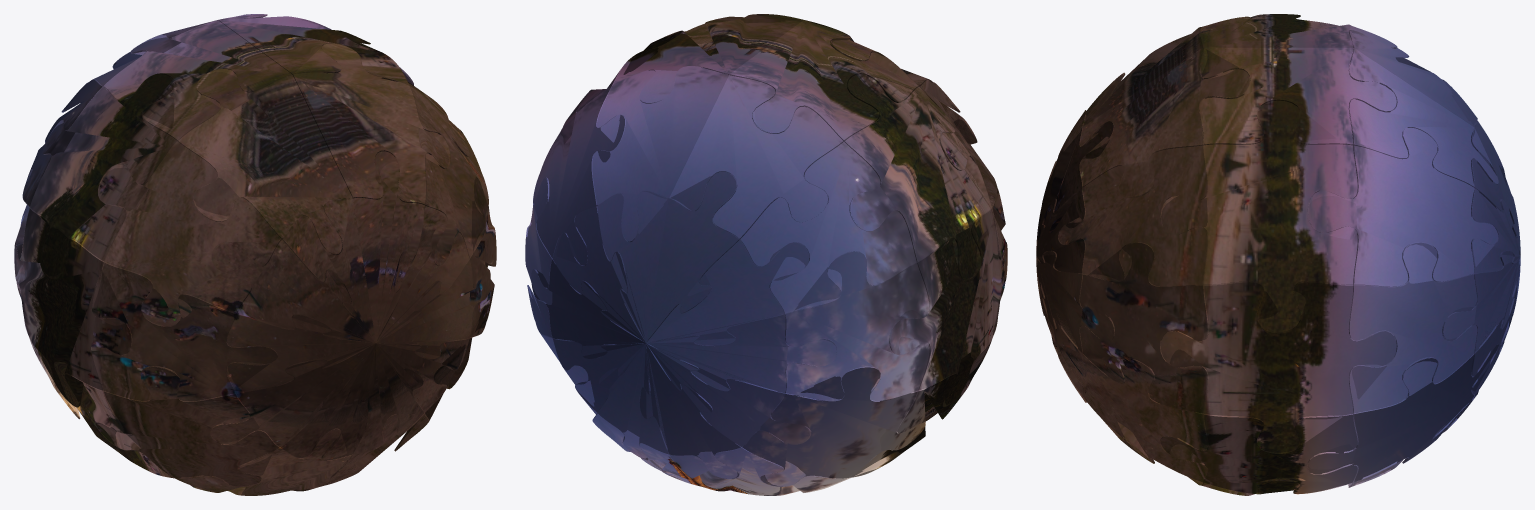
Rendered from easy-puzzle-v18.fbx.
The picture shows the model from 3 angles, left to right: view 1: azimuth 30°, elevation 25°; view 2: azimuth 150°, elevation 25°; view 3: azimuth 270°, elevation 25°; orthographic projection.
Parts seen in each view (by area): view 1: Street View 360 1.013, Street View 360 1.045, Street View 360 1.018, Street View 360 1.042, Street View 360 1.046, Street View 360 1.044, Street View 360 1.035, Street View 360 1.047, Street View 360 1.017, Street View 360 1.043, Street View 360 1.005, Street View 360 1.048 (+6 smaller); view 2: Street View 360 1.025, Street View 360 1.027, Street View 360 1.042, Street View 360 1.028, Street View 360 1.016, Street View 360 1.006, Street View 360 1.029, Street View 360 1.035, Street View 360 1.017, Street View 360 1.034, Street View 360 1.005, Street View 360 1.030 (+7 smaller); view 3: Street View 360 1.041, Street View 360 1.040, Street View 360 1.034, Street View 360 1.043, Street View 360 1.051, Street View 360 1.005, Street View 360 1.033, Street View 360 1.044, Street View 360 1.039, Street View 360 1.013, Street View 360 1.050, Street View 360 1.025 (+6 smaller).
Part boxes in pixels (left/top/right/bottom): Street View 360 1.013: left=212, top=151, right=490, bottom=460; Street View 360 1.045: left=99, top=141, right=281, bottom=326; Street View 360 1.018: left=178, top=69, right=352, bottom=254; Street View 360 1.042: left=30, top=74, right=177, bottom=279; Street View 360 1.046: left=92, top=262, right=277, bottom=401; Street View 360 1.044: left=293, top=43, right=450, bottom=204; Street View 360 1.035: left=14, top=208, right=132, bottom=406; Street View 360 1.047: left=96, top=367, right=279, bottom=486; Street View 360 1.017: left=103, top=20, right=292, bottom=141; Street View 360 1.043: left=410, top=86, right=488, bottom=265; Street View 360 1.005: left=218, top=14, right=408, bottom=85; Street View 360 1.048: left=175, top=428, right=359, bottom=495; Street View 360 1.025: left=531, top=171, right=836, bottom=478; Street View 360 1.027: left=740, top=142, right=916, bottom=313; Street View 360 1.042: left=844, top=74, right=991, bottom=279; Street View 360 1.028: left=784, top=251, right=929, bottom=401; Street View 360 1.016: left=669, top=75, right=843, bottom=239; Street View 360 1.006: left=592, top=66, right=728, bottom=242; Street View 360 1.029: left=742, top=366, right=924, bottom=486; Street View 360 1.035: left=889, top=208, right=1007, bottom=406; Street View 360 1.017: left=729, top=20, right=917, bottom=141; Street View 360 1.034: left=533, top=86, right=625, bottom=265; Street View 360 1.005: left=612, top=14, right=802, bottom=103; Street View 360 1.030: left=662, top=447, right=845, bottom=495; Street View 360 1.041: left=1160, top=100, right=1357, bottom=332; Street View 360 1.040: left=1160, top=281, right=1396, bottom=452; Street View 360 1.034: left=1307, top=127, right=1498, bottom=286; Street View 360 1.043: left=1058, top=145, right=1208, bottom=286; Street View 360 1.051: left=1080, top=242, right=1208, bottom=413; Street View 360 1.005: left=1199, top=47, right=1396, bottom=145; Street View 360 1.033: left=1348, top=242, right=1477, bottom=413; Street View 360 1.044: left=1080, top=47, right=1250, bottom=197; Street View 360 1.039: left=1160, top=414, right=1357, bottom=493; Street View 360 1.013: left=1036, top=114, right=1114, bottom=401; Street View 360 1.050: left=1058, top=344, right=1208, bottom=482; Street View 360 1.025: left=1443, top=80, right=1520, bottom=426.
Bounding box in the file's own units: 191 × 189 × 192.
